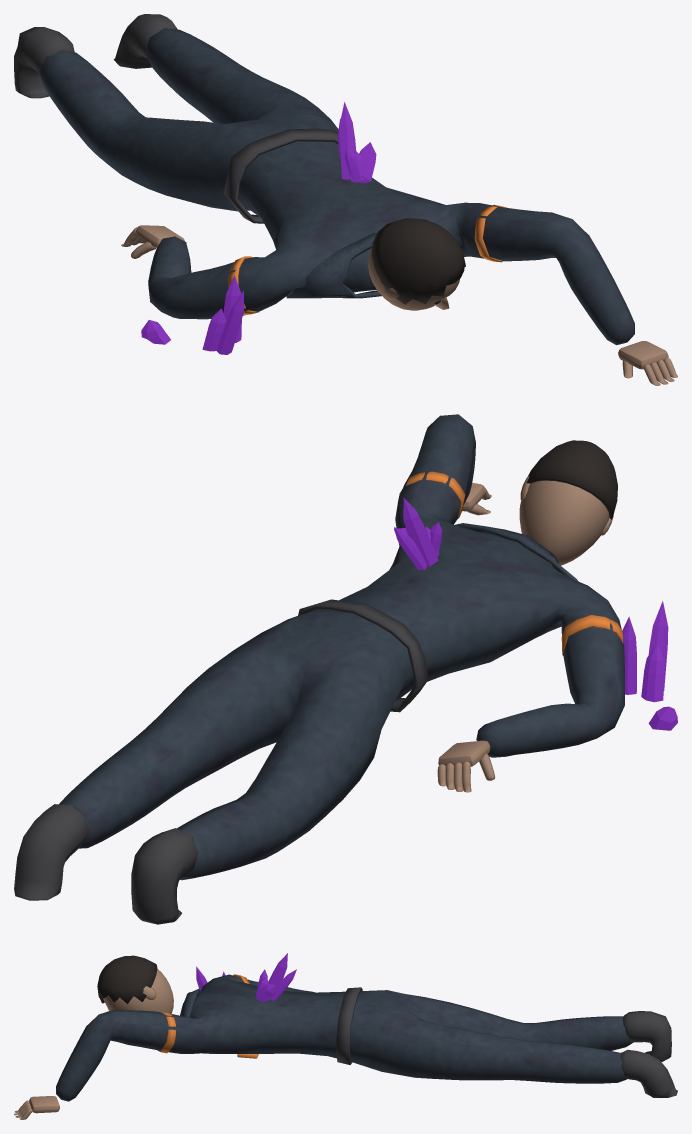
Rendered from corpse_prone.glb.
The picture shows the model from 3 angles, top to bottom: view 1: azimuth 30°, elevation 25°; view 2: azimuth 150°, elevation 25°; view 3: azimuth 270°, elevation 25°; orthographic projection. The views are drawn at different scales.
Parts seen in each view (by area): view 1: corpse_prone; view 2: corpse_prone; view 3: corpse_prone.
Part boxes in pixels (<box>): corpse_prone: <box>14,14,677,385</box>; corpse_prone: <box>14,414,677,924</box>; corpse_prone: <box>14,953,677,1119</box>.
Size of the model in its own units: 0.8697 by 0.3915 by 1.97.
Materials: 8 (1 with a texture image).
